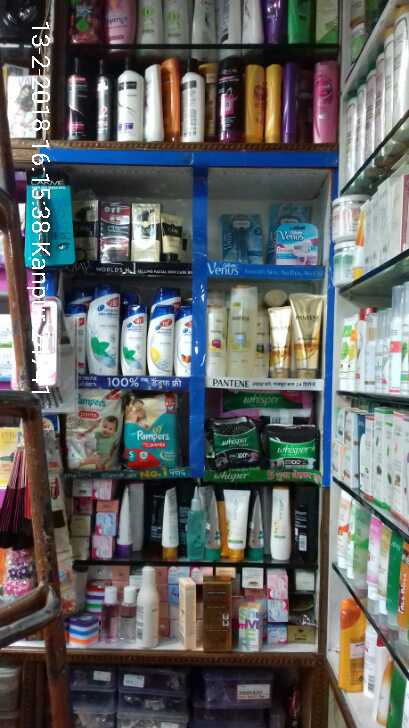venus: (224, 214, 264, 262), (276, 224, 319, 261), (271, 203, 311, 222)
